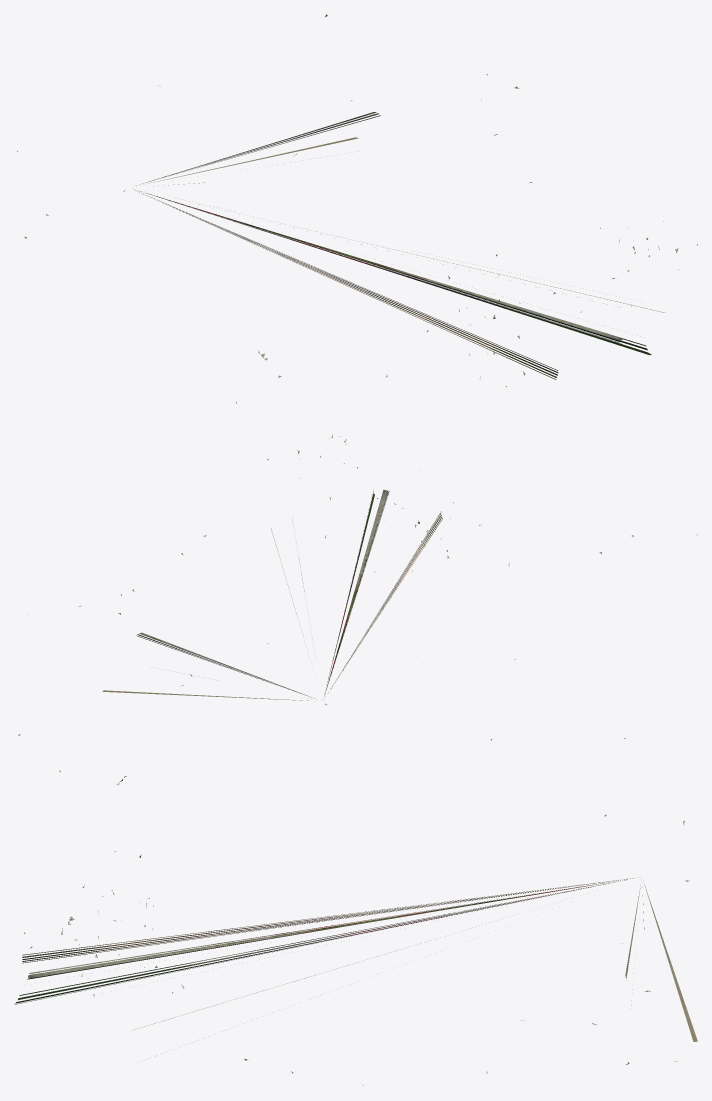
The model's file is nature_rock_cluster_01.glb.
3 views of the same model, one above another, from view 1: azimuth 30°, elevation 25°; view 2: azimuth 150°, elevation 25°; view 3: azimuth 270°, elevation 25° (orthographic). The views are drawn at different scales.
Visible parts, largest first — view 1: geometry_0; view 2: geometry_0; view 3: geometry_0.
Boxes of the visible parts, bbox=[...] form: geometry_0: bbox=[17, 14, 697, 403]; geometry_0: bbox=[27, 435, 697, 704]; geometry_0: bbox=[14, 734, 697, 1085].
Bounding box in the file's own units: 0.921 × 0.2148 × 0.9005.
1 material, 1 textured.
